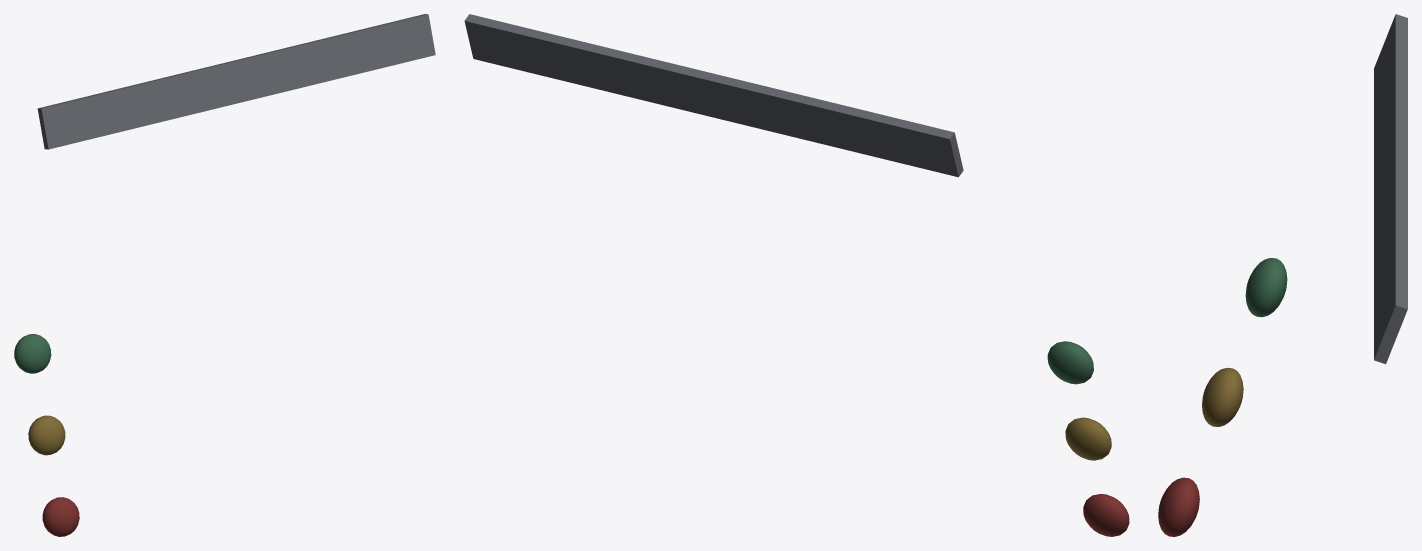
The model's file is verdict.glb.
The picture shows the model from 3 angles, left to right: view 1: azimuth 30°, elevation 25°; view 2: azimuth 150°, elevation 25°; view 3: azimuth 270°, elevation 25°; orthographic projection. The views are drawn at different scales.
Parts seen in each view (by area): view 1: pkt_hdr_bar, pkt_vrd_lamp_2, pkt_vrd_lamp_1, pkt_vrd_lamp_0; view 2: pkt_hdr_bar, pkt_vrd_lamp_1, pkt_vrd_lamp_0, pkt_vrd_lamp_2; view 3: pkt_hdr_bar, pkt_vrd_lamp_2, pkt_vrd_lamp_0, pkt_vrd_lamp_1.
Part boxes in pixels (<box>): pkt_hdr_bar: <box>37,14,435,149</box>; pkt_vrd_lamp_2: <box>42,497,79,536</box>; pkt_vrd_lamp_1: <box>28,415,65,455</box>; pkt_vrd_lamp_0: <box>14,334,51,373</box>; pkt_hdr_bar: <box>464,14,963,177</box>; pkt_vrd_lamp_1: <box>1065,417,1111,460</box>; pkt_vrd_lamp_0: <box>1047,341,1093,384</box>; pkt_vrd_lamp_2: <box>1083,494,1129,536</box>; pkt_hdr_bar: <box>1374,14,1407,364</box>; pkt_vrd_lamp_2: <box>1158,477,1199,536</box>; pkt_vrd_lamp_0: <box>1245,258,1287,317</box>; pkt_vrd_lamp_1: <box>1202,367,1243,426</box>.
Bounding box in the file's own units: 0.2893 × 0.2199 × 0.0891.
